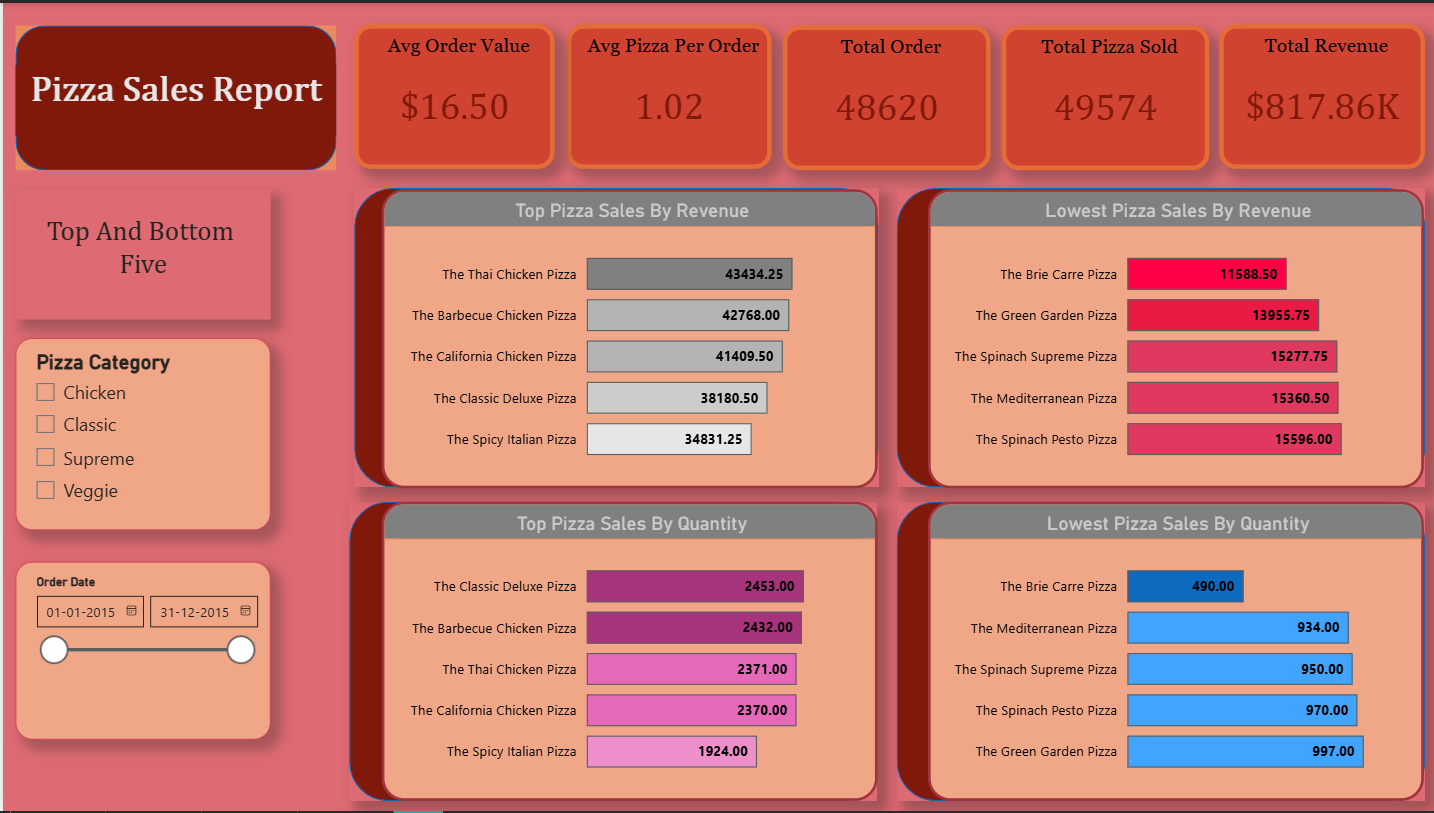

Layout of this report page (visuals, bound fields, positions):
{"tool":"powerbi","page":{"name":"Page 3","canvas":[1280,720],"ordinal":2},"visuals":[{"type":"card","title":"Avg Pizza Per Order","fields":{"Values":["public pizza_sales.average_pizza per order"]},"box":[501.9,19.3,182.2,129.1],"z":0},{"type":"card","title":"Avg Order Value","fields":{"Values":["public pizza_sales.Average order value"]},"box":[312.5,19.3,178.6,129.1],"z":1000},{"type":"card","title":"Total Order","fields":{"Values":["public pizza_sales.Total_order"]},"box":[694.9,20.5,184.6,129.1],"z":2000},{"type":"card","title":"Total Pizza Sold","fields":{"Values":["public pizza_sales.Total_pizza_sold"]},"box":[889.1,20.5,184.6,129.1],"z":3000},{"type":"card","title":"Total Revenue","fields":{"Values":["public pizza_sales.total_revenue"]},"box":[1083.4,19.3,183.4,129.1],"z":4000},{"type":"shape","box":[312.5,165.3,466.9,266.6],"z":5000},{"type":"shape","box":[796.3,165.3,470.5,266.6],"z":6000},{"type":"shape","box":[796.3,444,470.5,266.6],"z":7000},{"type":"shape","box":[308.8,444,470.5,266.6],"z":8000},{"type":"barChart","title":"Top Pizza Sales By Revenue","fields":{"Category":["public pizza_sales.pizza_name"],"Y":["Sum(public pizza_sales.total_price)"]},"box":[337,165.6,441.7,266.3],"z":9000},{"type":"shape","title":"Pi","box":[10.9,20.5,285.9,129.1],"z":10000},{"type":"textbox","box":[10.9,55.5,285.9,62.7],"z":11000},{"type":"barChart","title":"Lowest Pizza Sales By Revenue","fields":{"Category":["public pizza_sales.pizza_name"],"Y":["Sum(public pizza_sales.total_price)"]},"box":[823.8,166.2,441.2,266.2],"z":12000},{"type":"barChart","title":"Top Pizza Sales By Quantity","fields":{"Category":["public pizza_sales.pizza_name"],"Y":["Sum(public pizza_sales.quantity)"]},"box":[337.5,443.8,441.2,266.2],"z":13000},{"type":"barChart","title":"Lowest Pizza Sales By Quantity","fields":{"Category":["public pizza_sales.pizza_name"],"Y":["Sum(public pizza_sales.quantity)"]},"box":[823.8,443.8,441.2,266.2],"z":14000},{"type":"slicer","title":"Pizza Category","fields":{"Values":["public pizza_sales.pizza_category"]},"box":[11.2,298.8,227.5,171.2],"z":15000},{"type":"slicer","title":"Pizza Category","fields":{"Values":["public pizza_sales.order_date"]},"box":[11.2,497.5,227.5,158.8],"z":16000},{"type":"textbox","box":[11.2,166.2,227.5,116.2],"z":17000}]}

Visuals, with their boxes in screenshot pixels (x1, y1, x2, y2), scaled from the page's 1280x720 canvas onto the 1434x813 screenshot:
"Avg Pizza Per Order" card: [562, 22, 766, 168]
"Avg Order Value" card: [350, 22, 550, 168]
"Total Order" card: [779, 23, 985, 169]
"Total Pizza Sold" card: [996, 23, 1203, 169]
"Total Revenue" card: [1214, 22, 1419, 168]
shape: [350, 187, 873, 488]
shape: [892, 187, 1419, 488]
shape: [892, 501, 1419, 802]
shape: [346, 501, 873, 802]
"Top Pizza Sales By Revenue" barChart: [378, 187, 872, 488]
"Pi" shape: [12, 23, 333, 169]
textbox: [12, 63, 333, 133]
"Lowest Pizza Sales By Revenue" barChart: [923, 188, 1417, 488]
"Top Pizza Sales By Quantity" barChart: [378, 501, 872, 802]
"Lowest Pizza Sales By Quantity" barChart: [923, 501, 1417, 802]
"Pizza Category" slicer: [13, 337, 267, 531]
"Pizza Category" slicer: [13, 562, 267, 741]
textbox: [13, 188, 267, 319]
